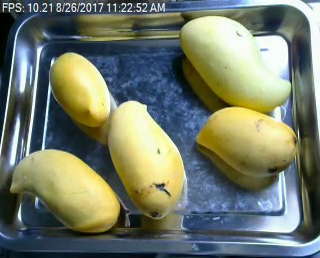Mango: (177, 14, 293, 112), (108, 99, 187, 217), (10, 150, 119, 233), (194, 106, 297, 175), (50, 51, 110, 128)
